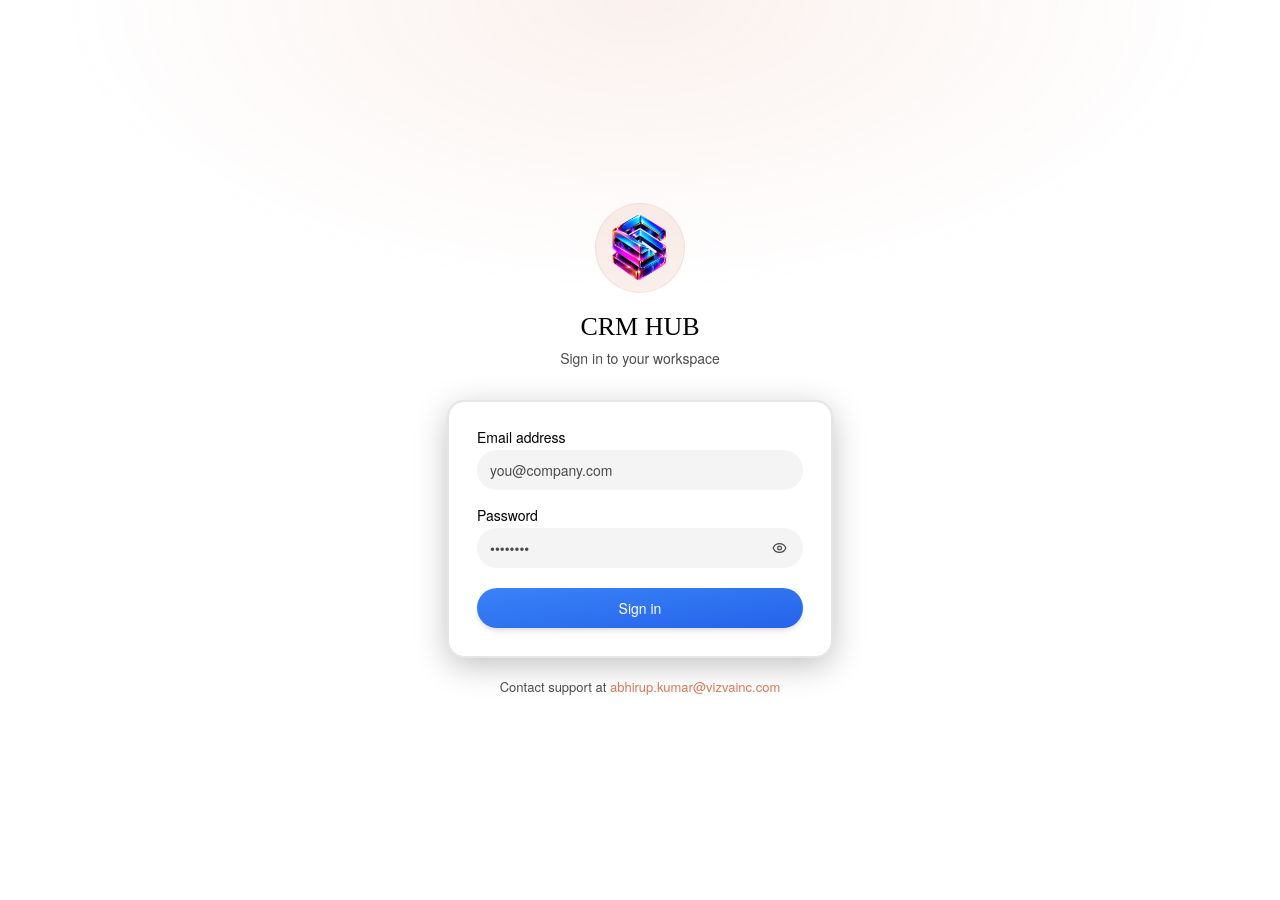
Test case: LoginPage - Task 2.5: Login Flow with Session Management › Error Handling › should display error message for user not found
This screenshot has width=1280, height=900.
Type "nonexistent@example.com" into the field labelled "Email address" at (640, 470), box [477, 450, 803, 490]
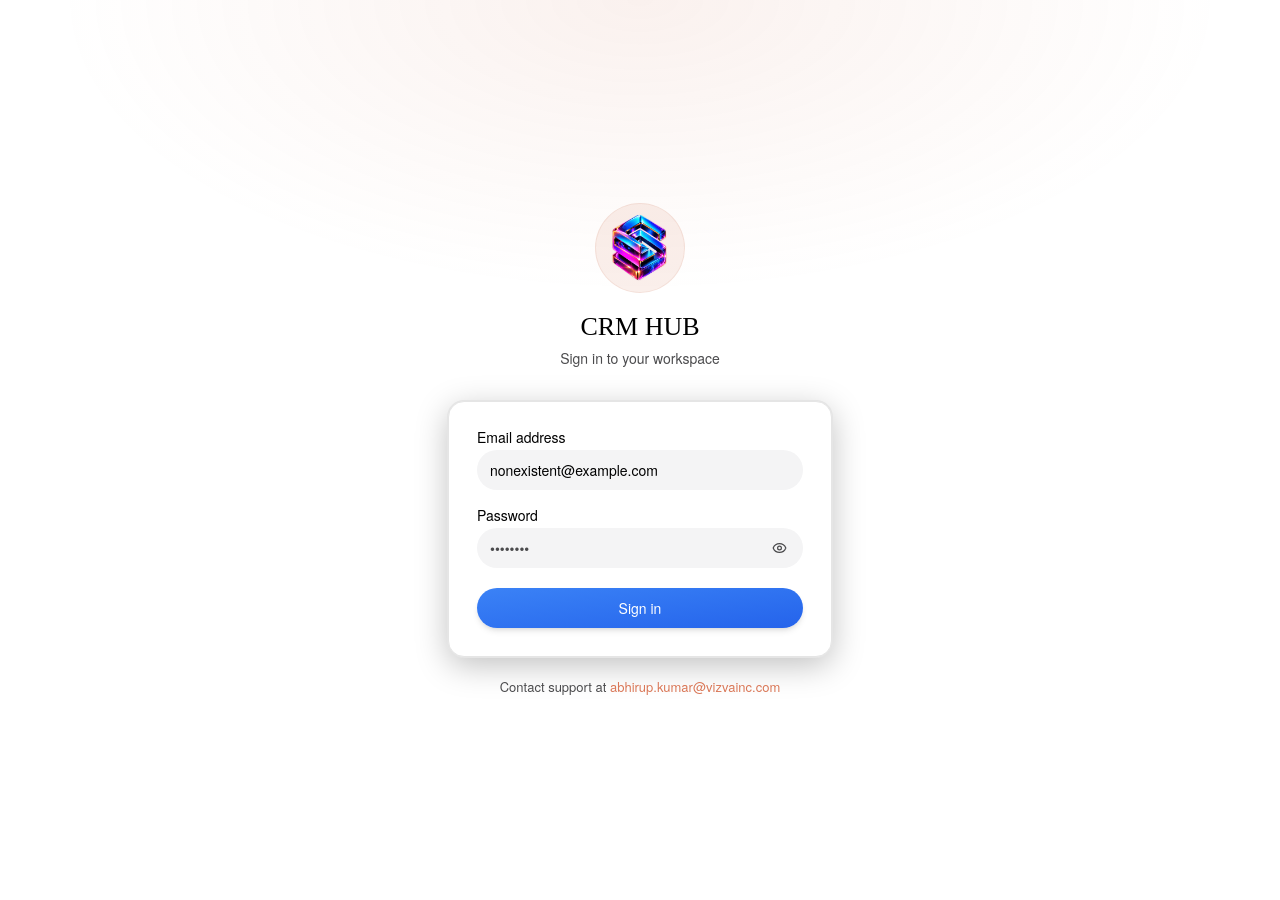
Type "password123" into the password field labelled "Password" at (640, 548), box [477, 528, 803, 568]
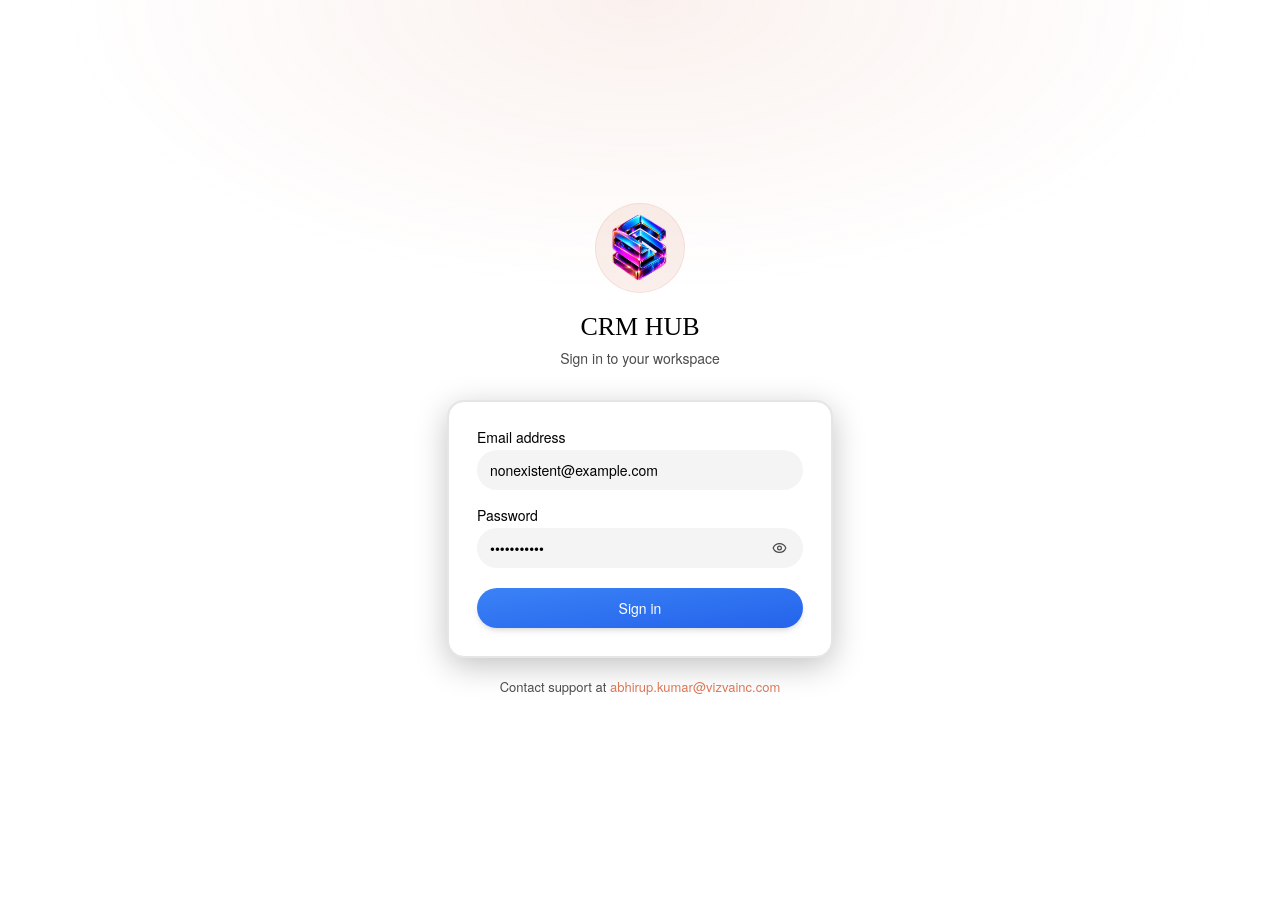
Click the button "Sign in" at (640, 608), box [477, 588, 803, 628]
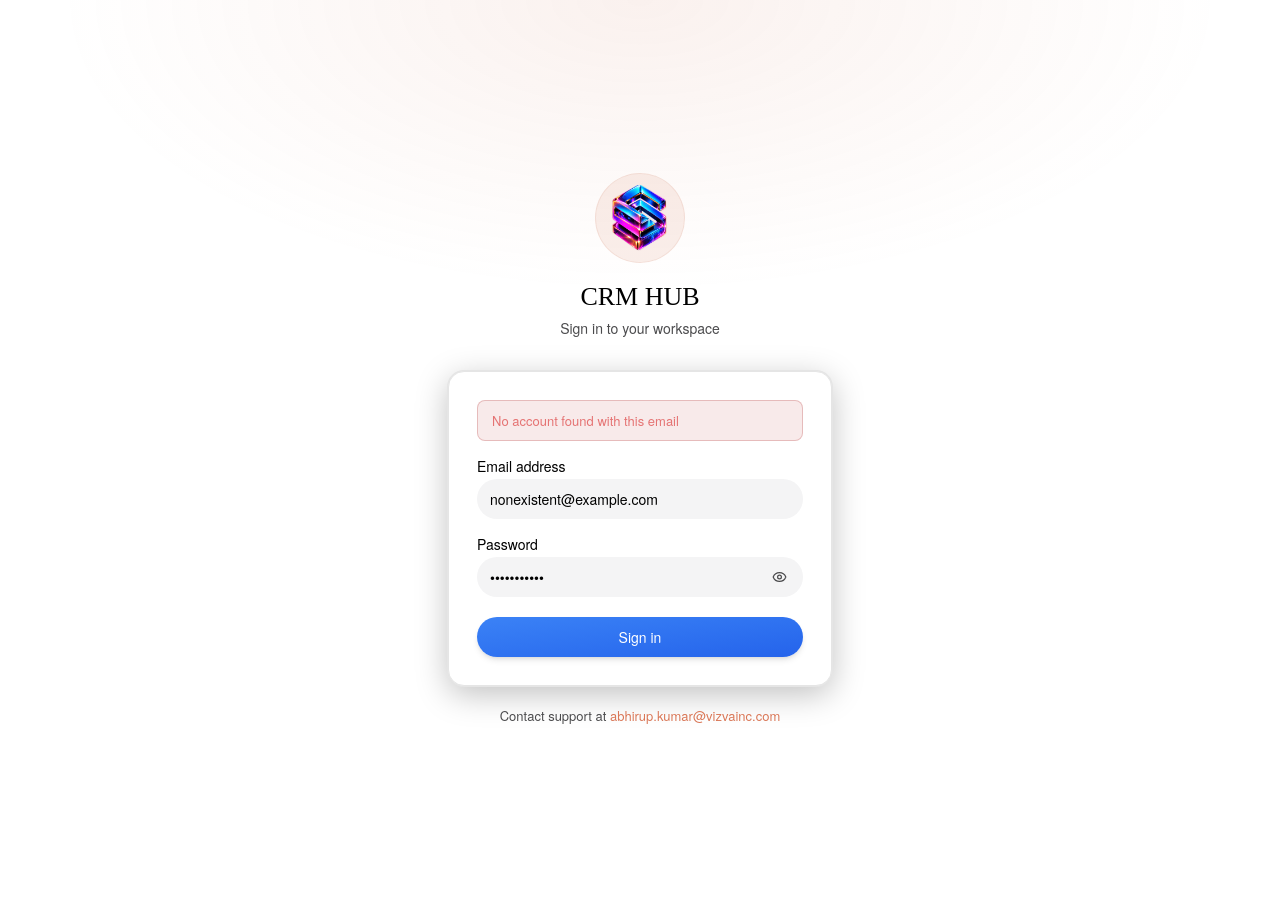
Expected: the text "No account found with this email" is shown, [477, 400, 803, 441]
